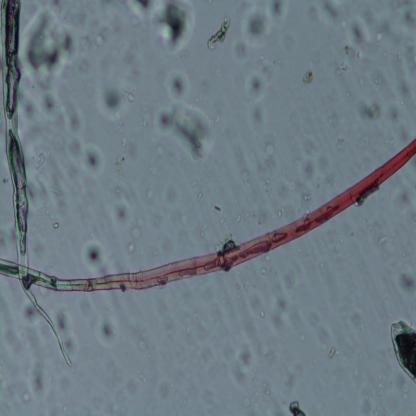Background material: (223, 132, 332, 226), (23, 9, 75, 79), (156, 101, 212, 161), (373, 47, 414, 126), (24, 142, 80, 199), (153, 0, 198, 54), (30, 90, 76, 135), (386, 317, 416, 384), (242, 3, 288, 43), (375, 1, 416, 41), (224, 337, 255, 381), (55, 298, 79, 352), (114, 127, 141, 175), (21, 347, 47, 394), (383, 263, 416, 297), (247, 71, 267, 125), (76, 141, 106, 175), (206, 14, 231, 54), (124, 39, 146, 82), (162, 68, 192, 99), (74, 34, 98, 72), (273, 294, 296, 332), (333, 44, 354, 83), (318, 0, 350, 25), (131, 214, 148, 261), (347, 16, 369, 50), (82, 243, 107, 271), (101, 86, 124, 116), (22, 297, 44, 327), (359, 99, 383, 123), (396, 184, 415, 214), (167, 204, 188, 229), (112, 198, 130, 226), (94, 312, 112, 340), (230, 41, 250, 63), (140, 179, 156, 200), (134, 0, 154, 15), (127, 86, 140, 107), (288, 401, 306, 415), (156, 382, 171, 398), (209, 200, 226, 214), (303, 70, 315, 86), (97, 30, 106, 51), (326, 343, 338, 358), (166, 188, 176, 205), (195, 188, 207, 202), (191, 179, 198, 191)
Cellulose filter fibre: (0, 0, 74, 368)
Cotton: (0, 136, 416, 291)
